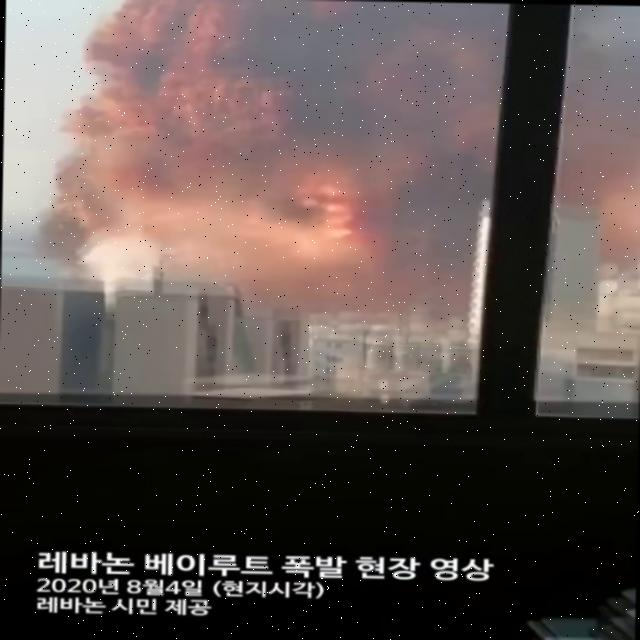explosion: (30, 0, 640, 381)
